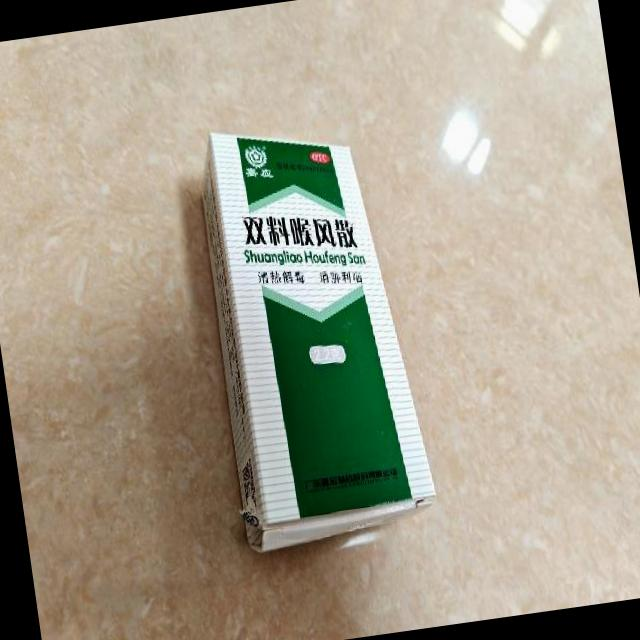box: (186, 107, 443, 559)
